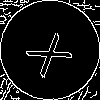X: (25, 25, 82, 79)
